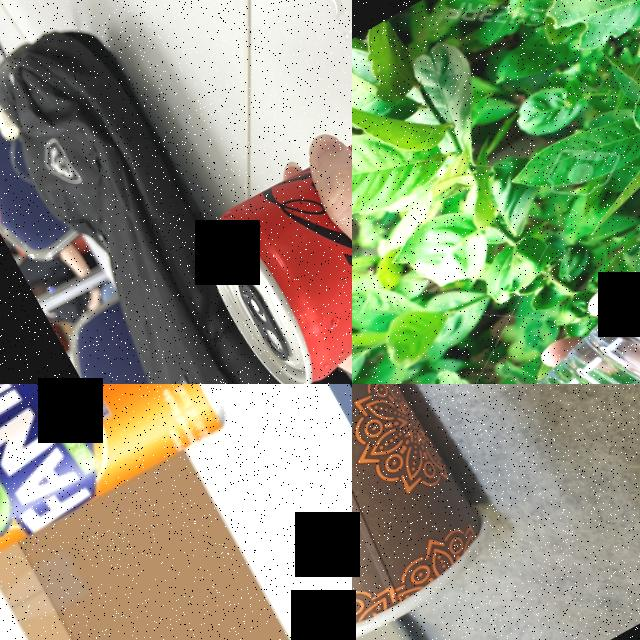bottle: (353, 102, 640, 384)
can: (0, 384, 240, 604), (183, 78, 352, 384)
cup: (352, 384, 515, 640)
